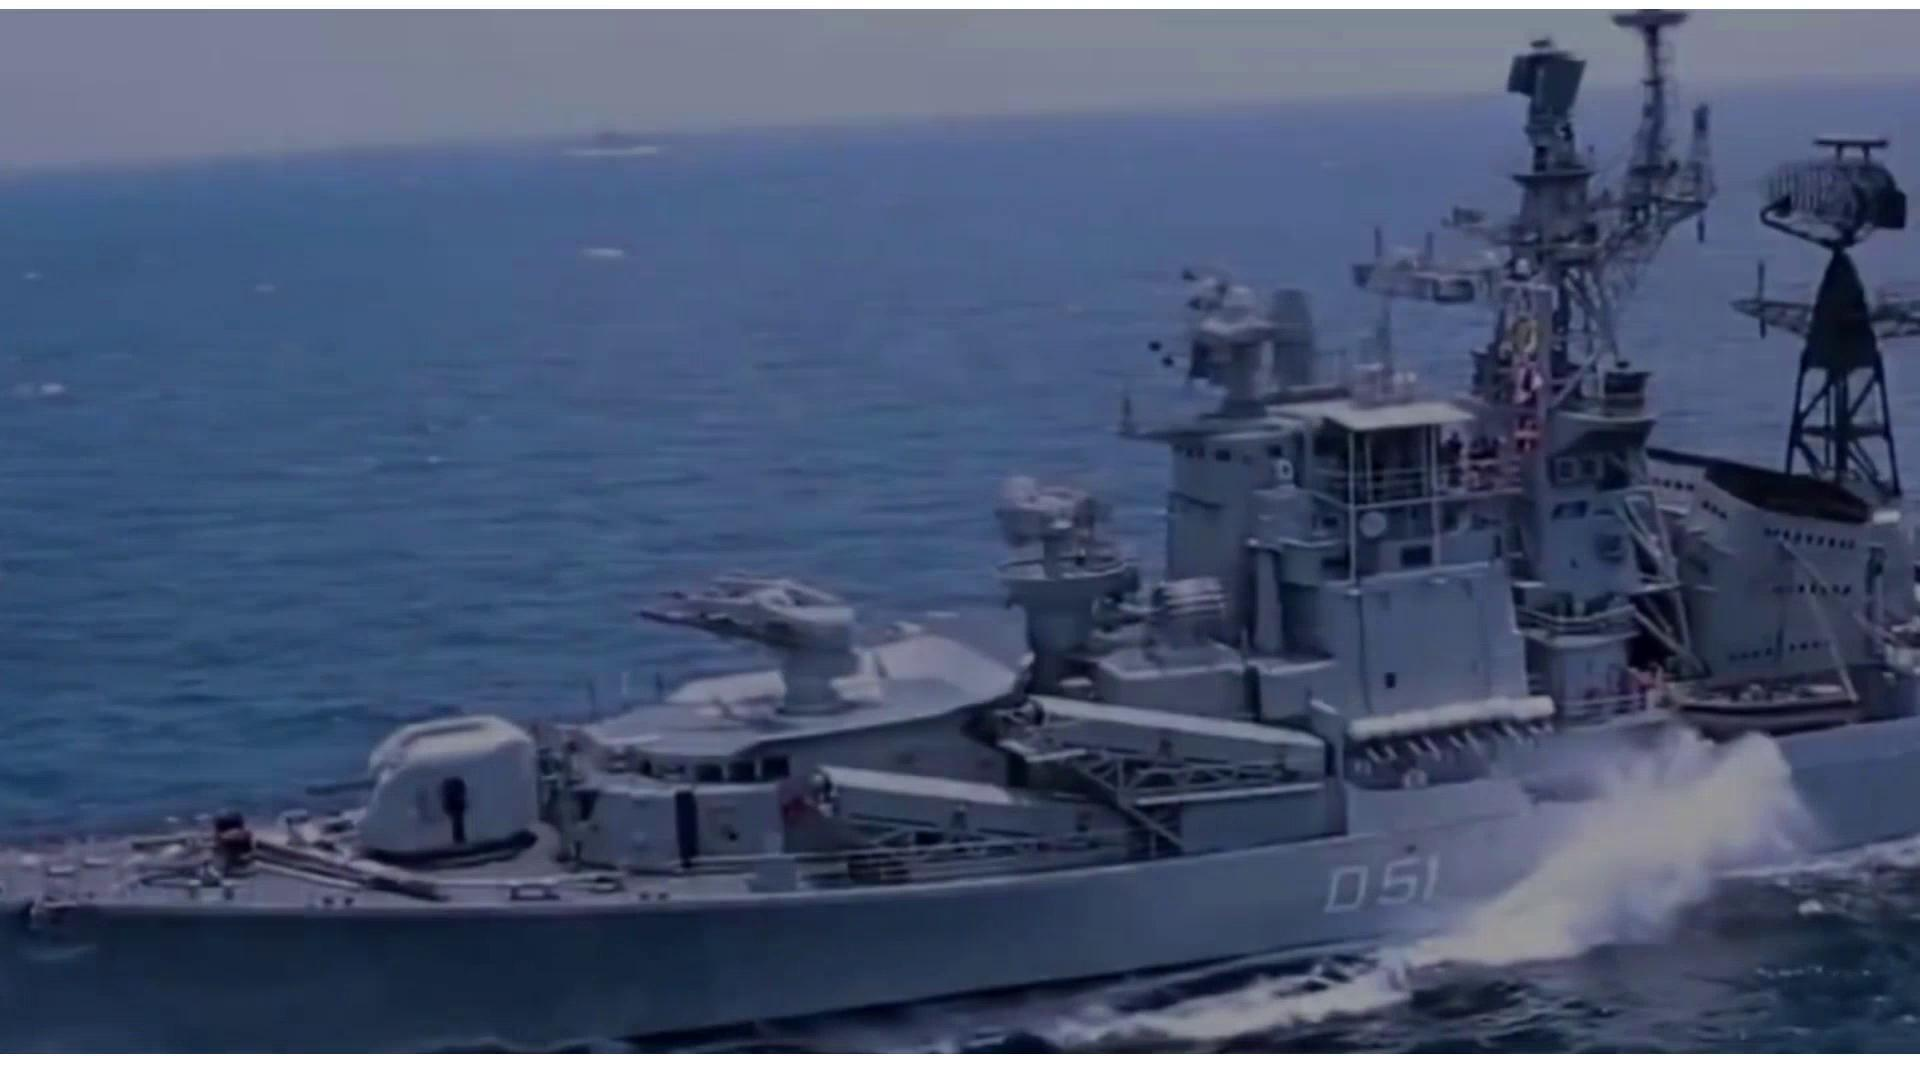OCR: (1311, 848, 1451, 934)
